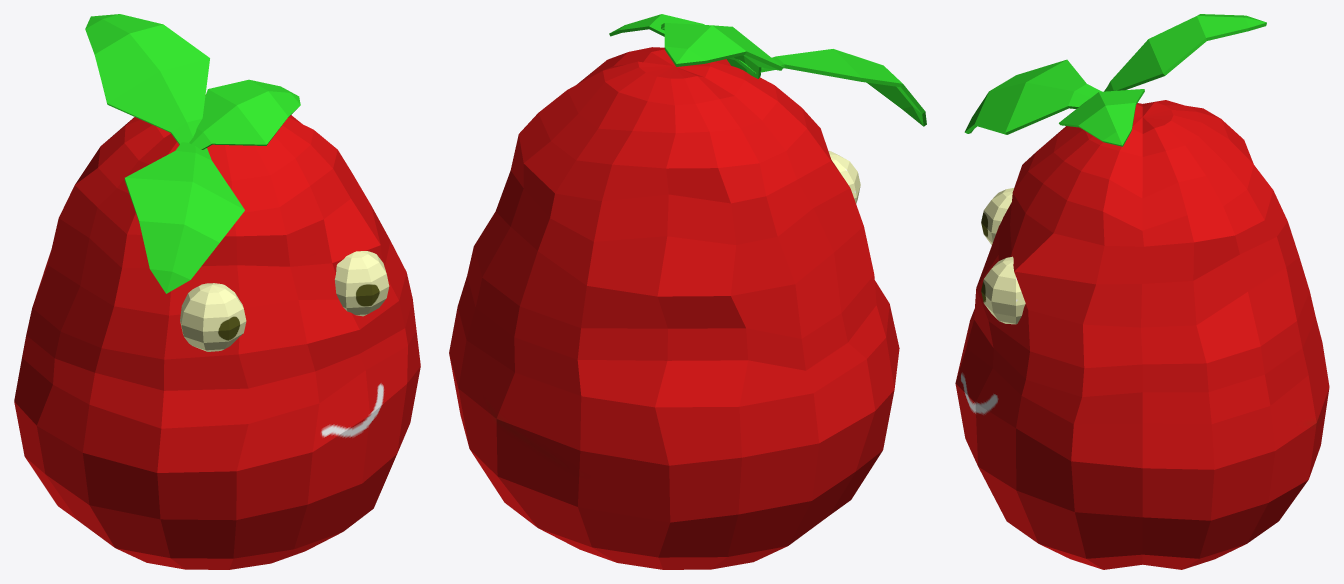
Rendered from Cherry-nut.fbx.
3 renders of one model, left to right at view 1: azimuth 30°, elevation 25°; view 2: azimuth 150°, elevation 25°; view 3: azimuth 270°, elevation 25°, orthographic. The views are drawn at different scales.
Parts seen in each view (by area): view 1: Sphere.007, Plane, Plane.002, Sphere.006, Plane.001; view 2: Sphere.007, Plane.002, Plane, Plane.001, Sphere.006; view 3: Sphere.007, Plane, Plane.002, Sphere.006, Plane.001.
Part boxes in pixels (x1=…): Sphere.007: x1=14, y1=115, x2=420, y2=569; Plane: x1=124, y1=142, x2=244, y2=293; Plane.002: x1=85, y1=14, x2=209, y2=144; Sphere.006: x1=180, y1=251, x2=389, y2=351; Plane.001: x1=189, y1=79, x2=300, y2=149; Sphere.007: x1=449, y1=47, x2=899, y2=569; Plane.002: x1=661, y1=23, x2=783, y2=78; Plane: x1=754, y1=49, x2=926, y2=126; Plane.001: x1=609, y1=14, x2=754, y2=74; Sphere.006: x1=828, y1=151, x2=860, y2=203; Sphere.007: x1=955, y1=100, x2=1329, y2=569; Plane: x1=964, y1=59, x2=1101, y2=134; Plane.002: x1=1104, y1=14, x2=1266, y2=91; Sphere.006: x1=981, y1=188, x2=1025, y2=324; Plane.001: x1=1059, y1=89, x2=1144, y2=146.
Bounding box in the file's own units: 167 × 223 × 152.
